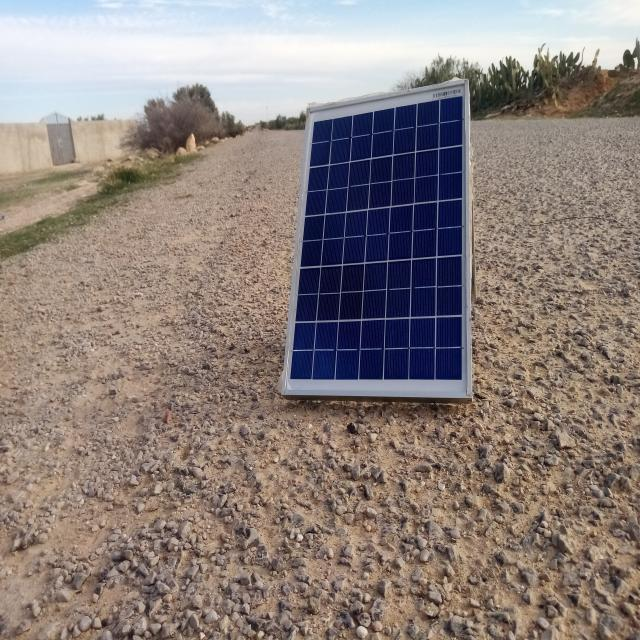no faulty: (283, 80, 468, 398)
